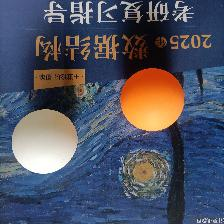WhiteBall: (11, 108, 78, 173)
YellowBall: (118, 67, 184, 130)
